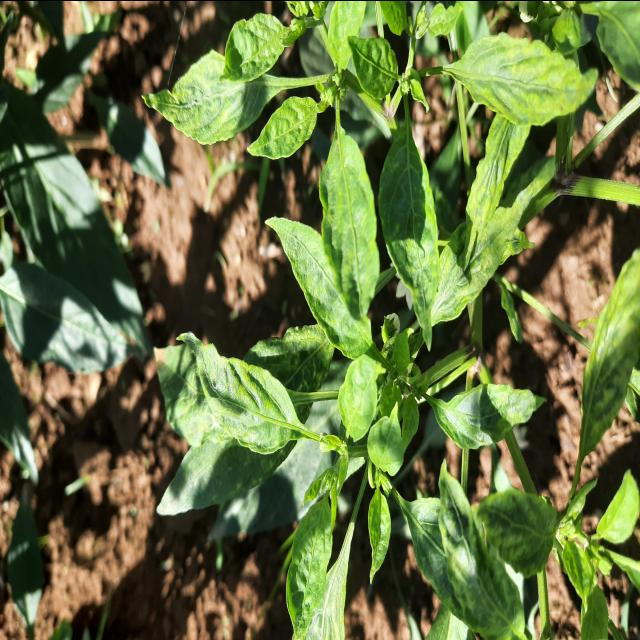thrips: (571, 231, 640, 444), (432, 467, 515, 637), (149, 51, 248, 145), (246, 74, 318, 185), (224, 0, 293, 86)
